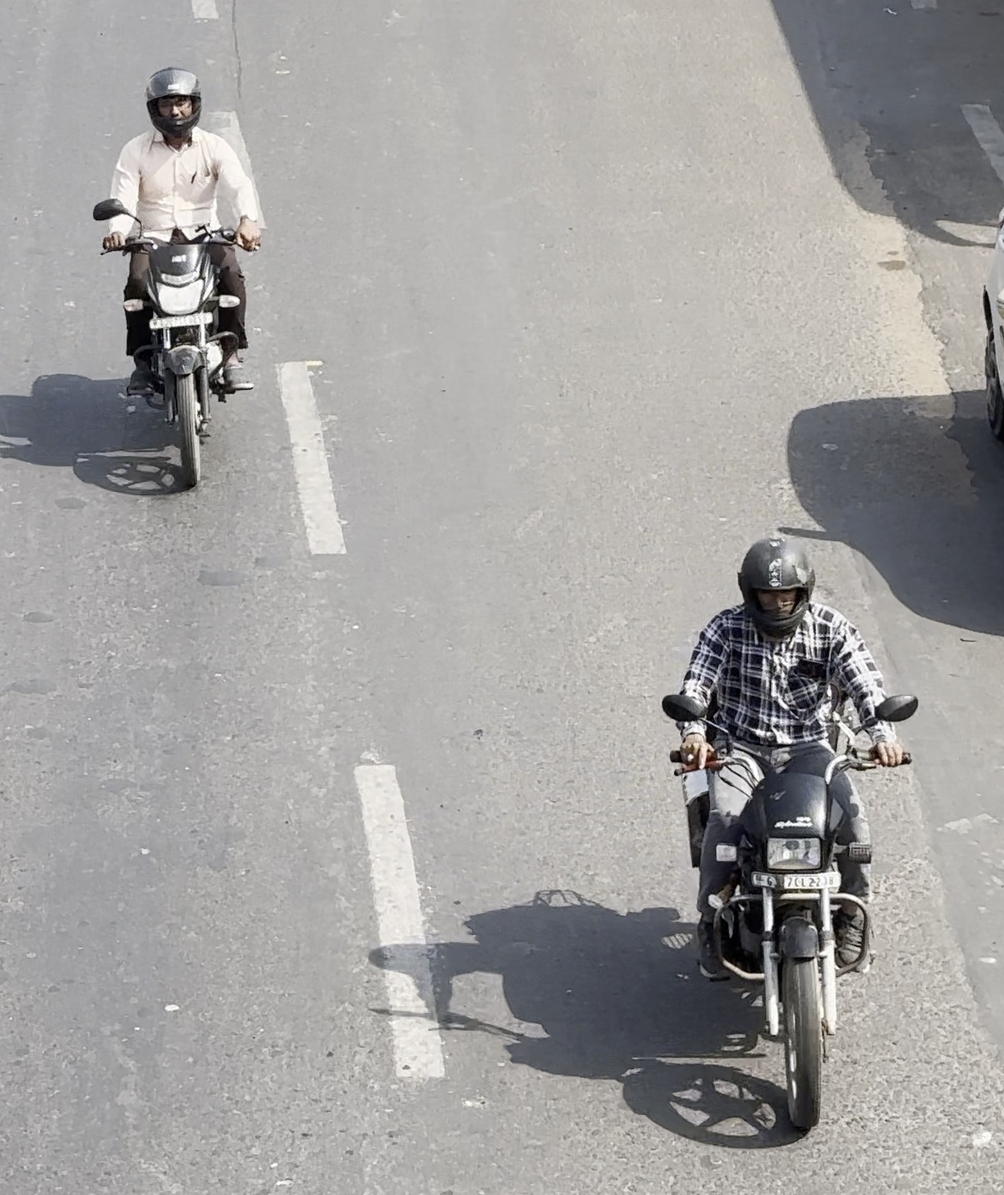BikeWithRider: (648, 523, 931, 1143), (76, 49, 288, 514)
Helmet: (726, 523, 827, 643), (136, 52, 213, 148)
